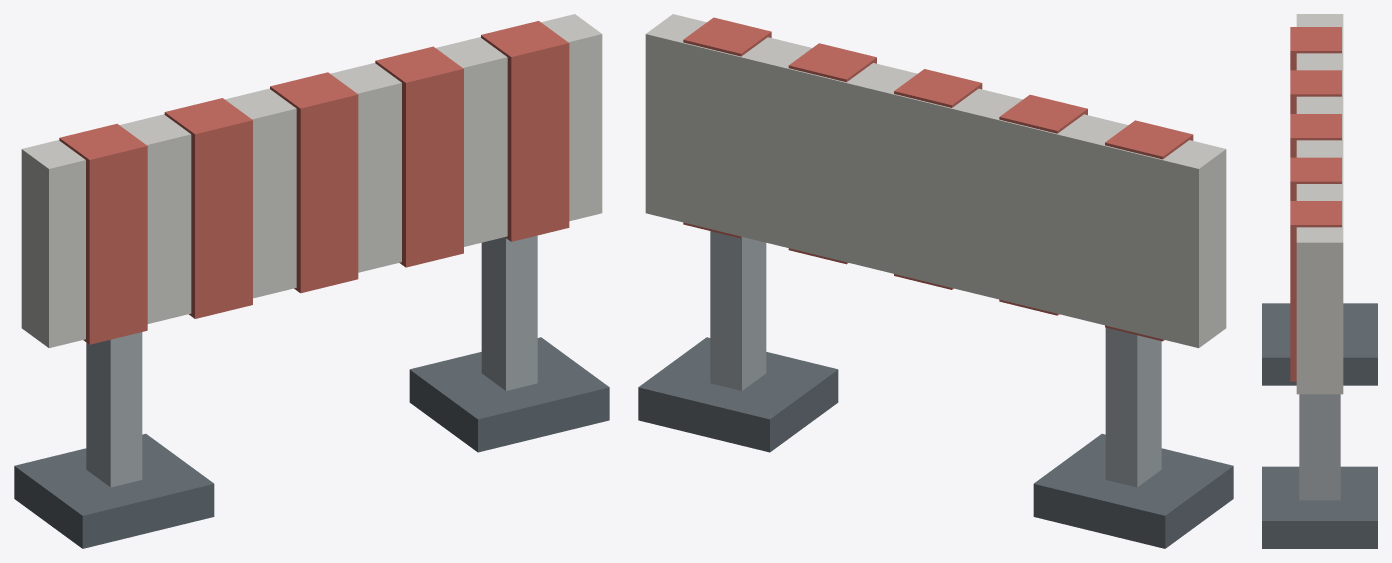
Rendered from roadwork_barrier.glb.
3 renders of one model, left to right at view 1: azimuth 30°, elevation 25°; view 2: azimuth 150°, elevation 25°; view 3: azimuth 270°, elevation 25°, orthographic. The views are drawn at different scales.
Parts seen in each view (by area): view 1: part_0, part_3, part_5, part_9, part_7, part_1, part_4, part_2, part_8, part_6; view 2: part_0, part_9, part_7, part_8, part_6, part_1, part_5, part_3, part_2, part_4; view 3: part_0, part_9, part_7, part_8, part_5, part_1, part_2, part_3, part_4.
Boxes of the visible parts, box(x1,y1,x2,y2) form: part_0: box(21, 14, 602, 348); part_3: box(270, 72, 358, 293); part_5: box(481, 21, 569, 241); part_9: box(409, 337, 609, 452); part_7: box(14, 433, 214, 548); part_1: box(59, 124, 147, 344); part_4: box(375, 46, 463, 267); part_2: box(164, 98, 252, 318); part_8: box(481, 235, 537, 390); part_6: box(86, 332, 142, 487); part_0: box(645, 14, 1226, 348); part_9: box(638, 337, 838, 452); part_7: box(1033, 433, 1233, 548); part_8: box(710, 231, 766, 390); part_6: box(1105, 327, 1161, 487); part_1: box(1105, 120, 1193, 341); part_5: box(683, 17, 771, 238); part_3: box(894, 69, 982, 289); part_2: box(999, 94, 1087, 315); part_4: box(788, 43, 876, 264); part_0: box(1296, 14, 1343, 394); part_9: box(1262, 466, 1377, 548); part_7: box(1262, 303, 1377, 385); part_8: box(1299, 394, 1340, 500); part_5: box(1290, 201, 1341, 381); part_1: box(1290, 27, 1341, 70); part_2: box(1290, 70, 1341, 113); part_3: box(1290, 114, 1341, 157); part_4: box(1290, 157, 1341, 200).
Size of the model in its own units: 2.1 by 1.36 by 0.45.
